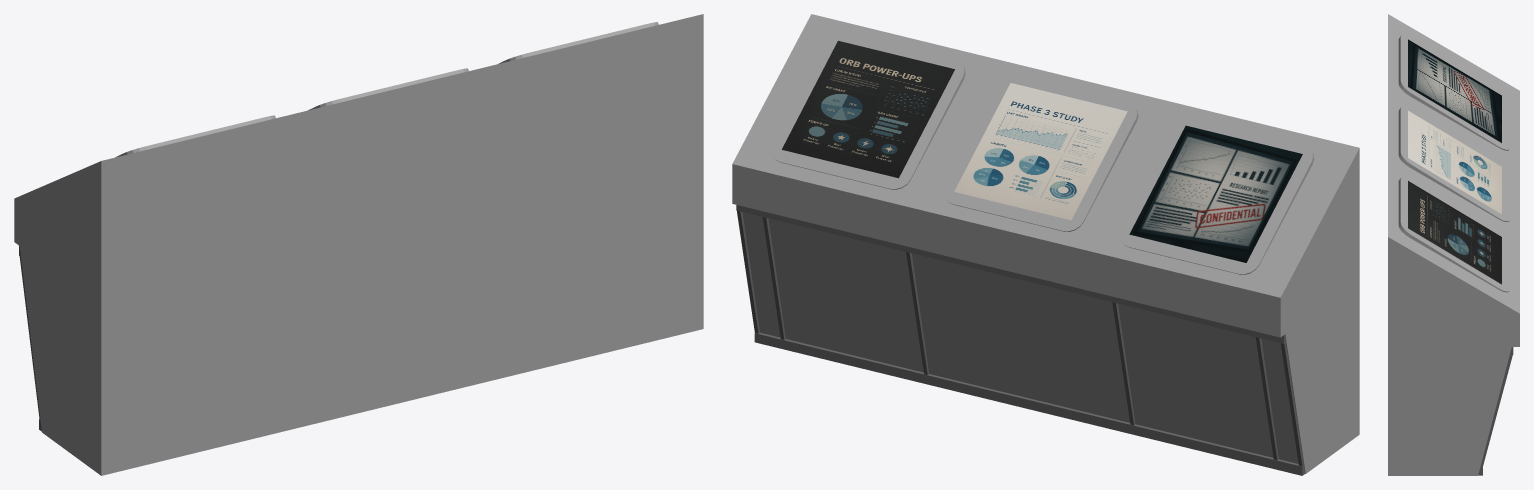
File: ScienceConsolefbx.fbx
3 renders of one model, left to right at view 1: azimuth 30°, elevation 25°; view 2: azimuth 150°, elevation 25°; view 3: azimuth 270°, elevation 25°, orthographic. The views are drawn at different scales.
Parts seen in each view (by area): view 1: Cube.001; view 2: Cube.001, Plane, Plane.002, Plane.001, Cube.008; view 3: Cube.001, Plane, Plane.001, Plane.002, Cube.008.
Part boxes in pixels (<box>): Cube.001: <box>14,14,703,475</box>; Cube.001: <box>732,14,1359,473</box>; Plane: <box>782,40,954,178</box>; Plane.002: <box>1129,125,1302,262</box>; Plane.001: <box>954,83,1127,220</box>; Cube.008: <box>736,205,1305,475</box>; Cube.001: <box>1388,14,1519,475</box>; Plane: <box>1408,181,1501,284</box>; Plane.001: <box>1408,110,1501,214</box>; Plane.002: <box>1408,39,1501,142</box>; Cube.008: <box>1478,347,1513,475</box>.
Bounding box in the file's own units: 400 × 100 × 200.
